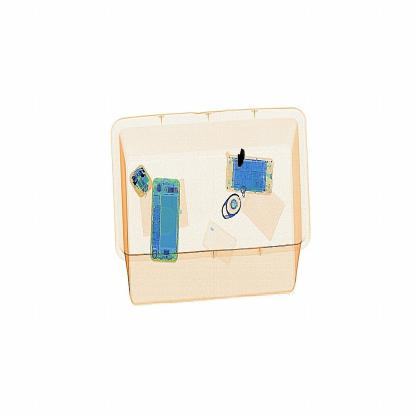knife: (229, 143, 256, 177)
